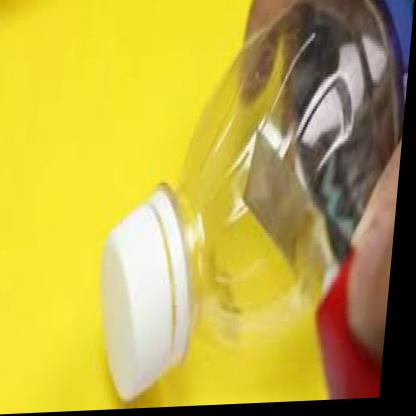Plastic: (99, 0, 416, 407)
